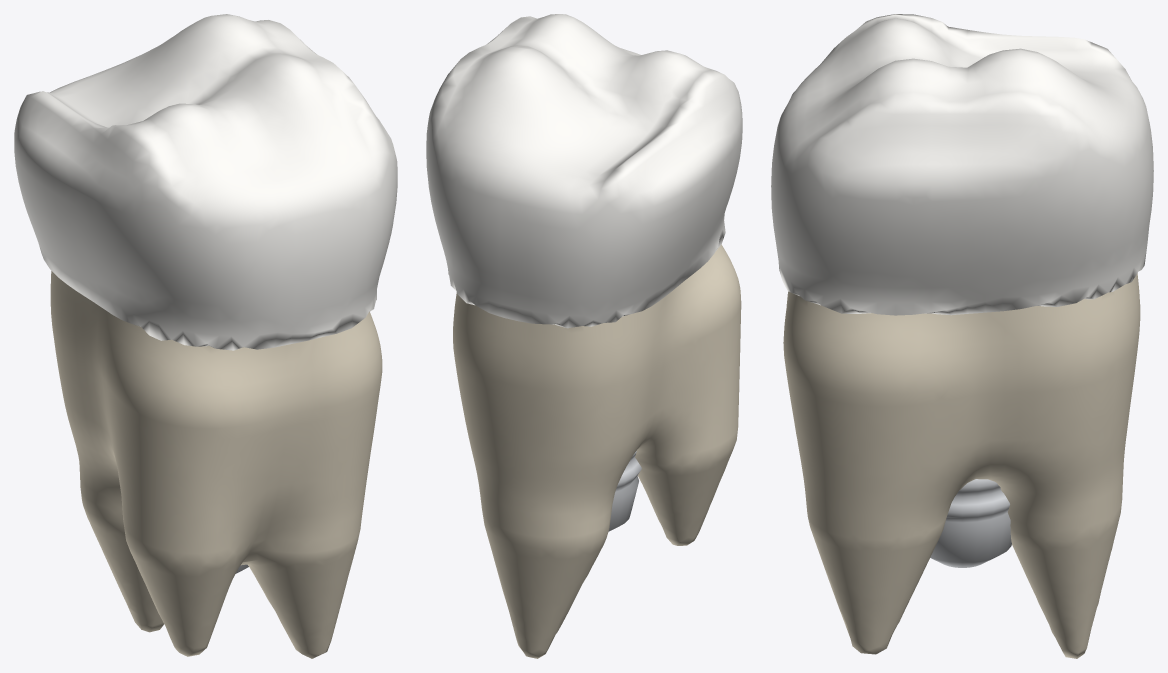
The picture shows the model from 3 angles, left to right: view 1: azimuth 30°, elevation 25°; view 2: azimuth 150°, elevation 25°; view 3: azimuth 270°, elevation 25°; orthographic projection. The views are drawn at different scales.
Visible parts, largest first — view 1: crown, root; view 2: crown, root, implant; view 3: crown, root, implant.
Boxes of the visible parts, box(x1,y1,x2,y2) form: crown: box(14, 14, 397, 350); root: box(50, 271, 382, 658); crown: box(426, 14, 742, 328); root: box(453, 244, 741, 658); implant: box(608, 451, 641, 531); crown: box(771, 14, 1153, 315); root: box(783, 273, 1140, 658); implant: box(930, 479, 1011, 567).
Bounding box in the file's own units: 9.32 × 19.34 × 10.7.
